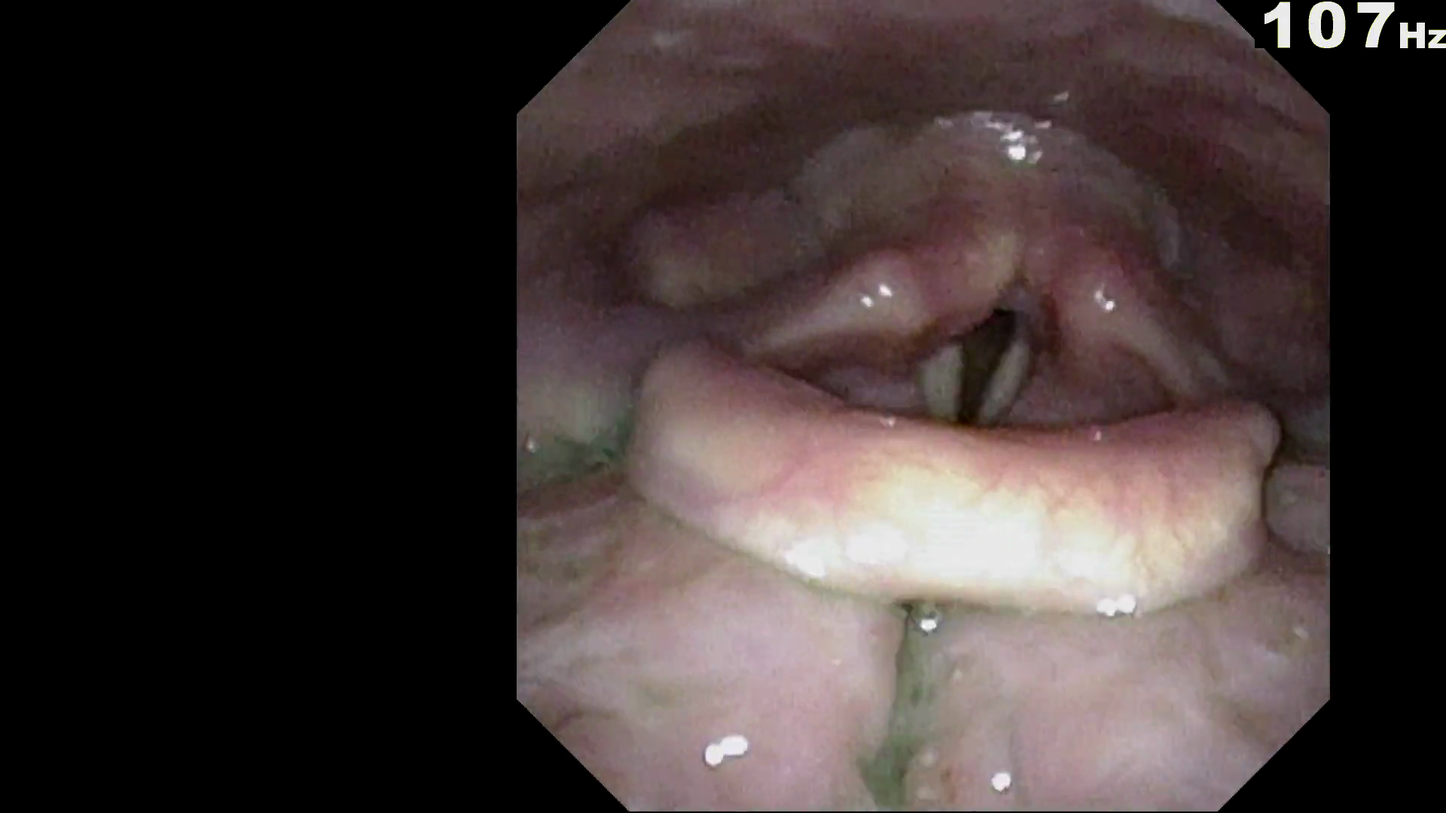epiglottis: (627, 351, 1282, 596)
trachea: (922, 303, 1027, 433)
